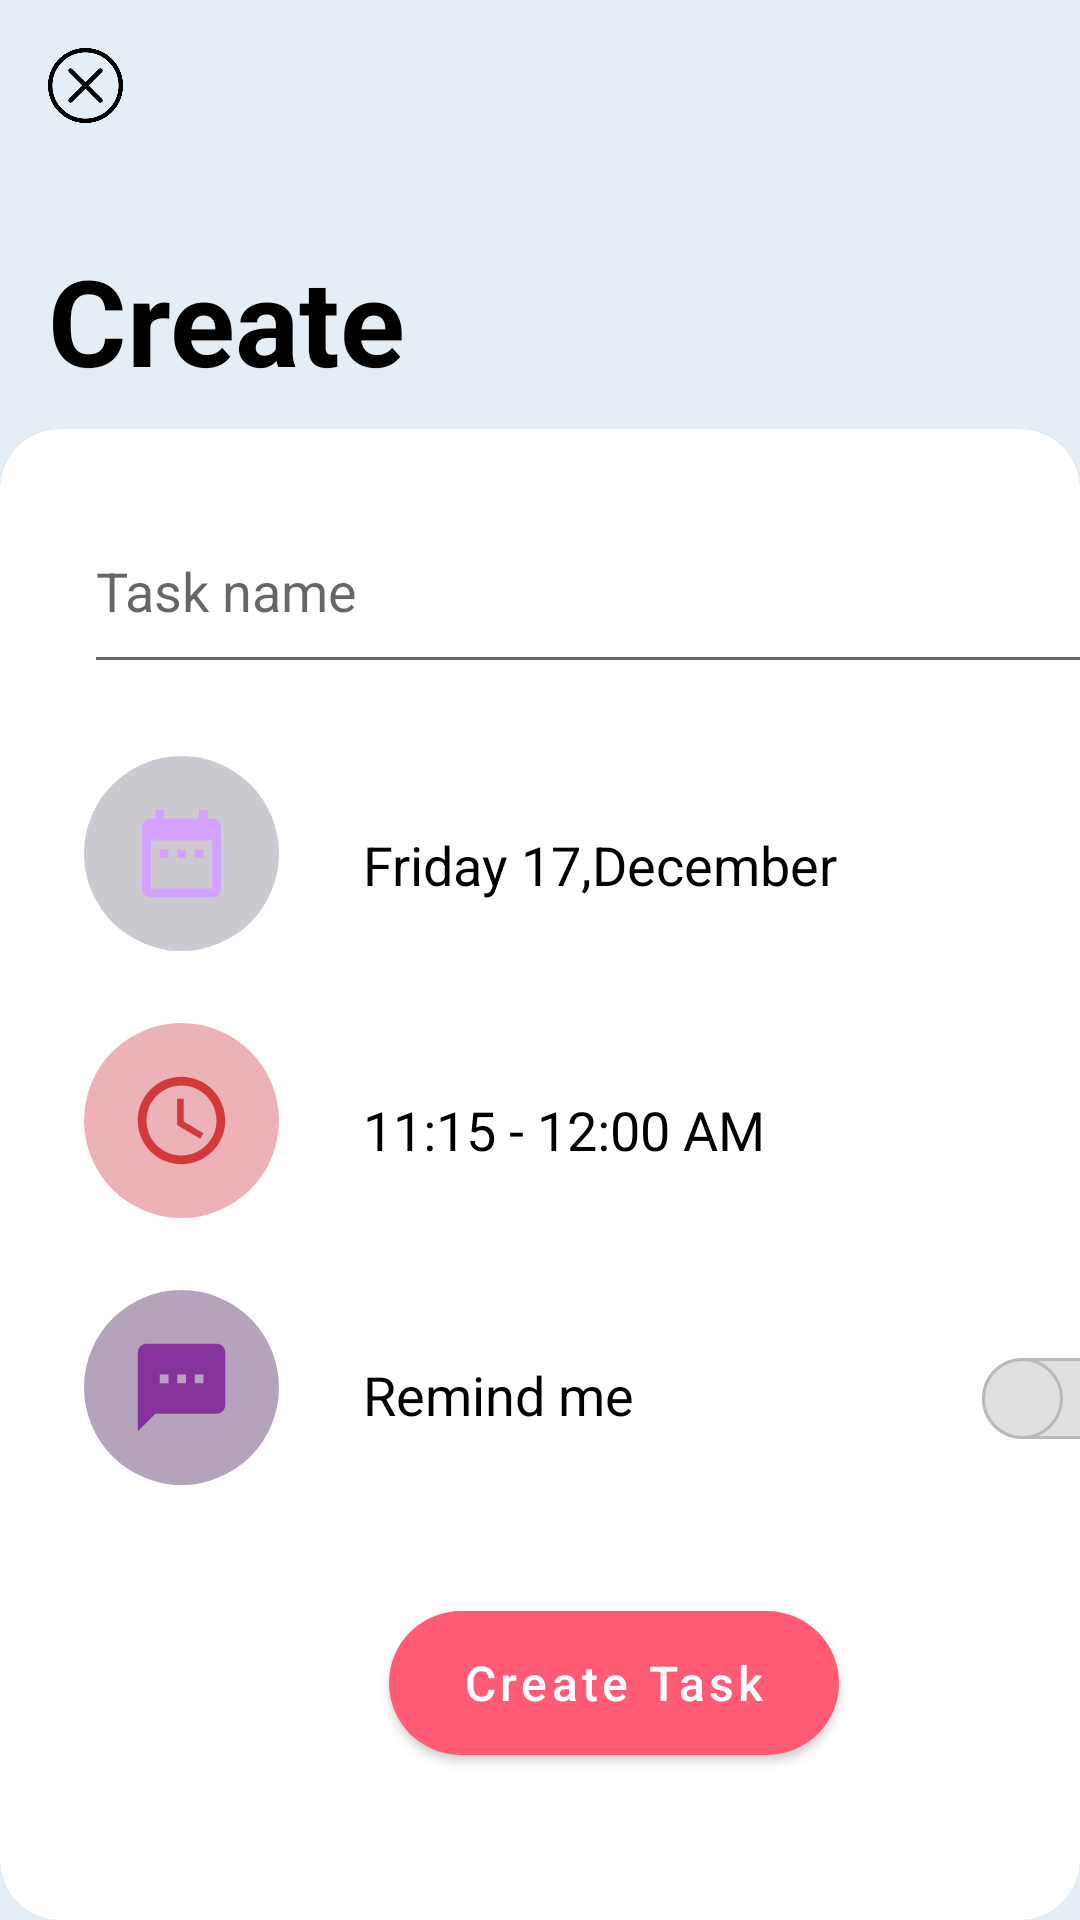

Icons on this 1080 x 1920 Android screen, each with its box as rect(x1, y1, x2, y2):
access time: rect(84, 1023, 279, 1218)
close: rect(48, 48, 123, 123)
date range: rect(84, 756, 279, 951)
textsms: rect(84, 1290, 279, 1485)
